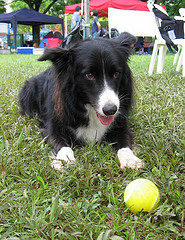tennis ball: (123, 178, 160, 213)
